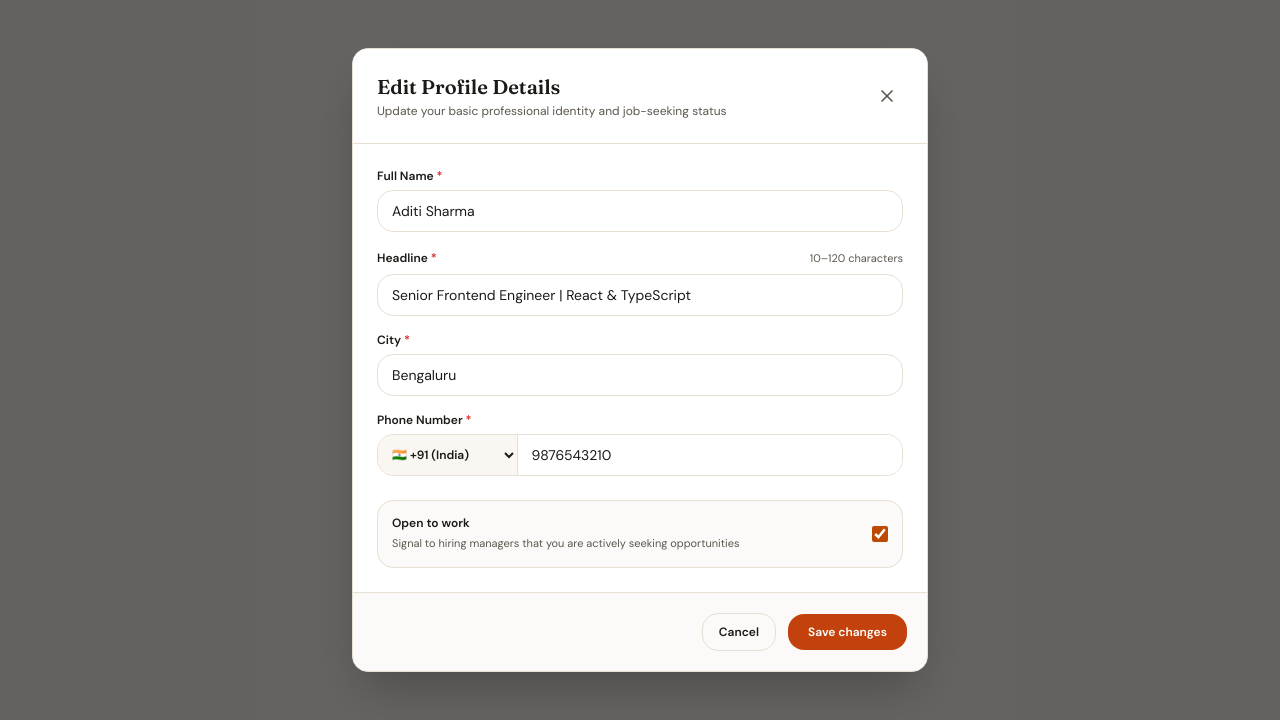
Test: Design B - EditProfileModal (Validation, Dirty Guard, Save) › shows inline validation error when headline is too short (< 10 chars)
The width and height of the screenshot is (1280, 720).
Replace the text in the field labelled "Headline *" with "Dev": [640, 295] box [377,274,903,316]
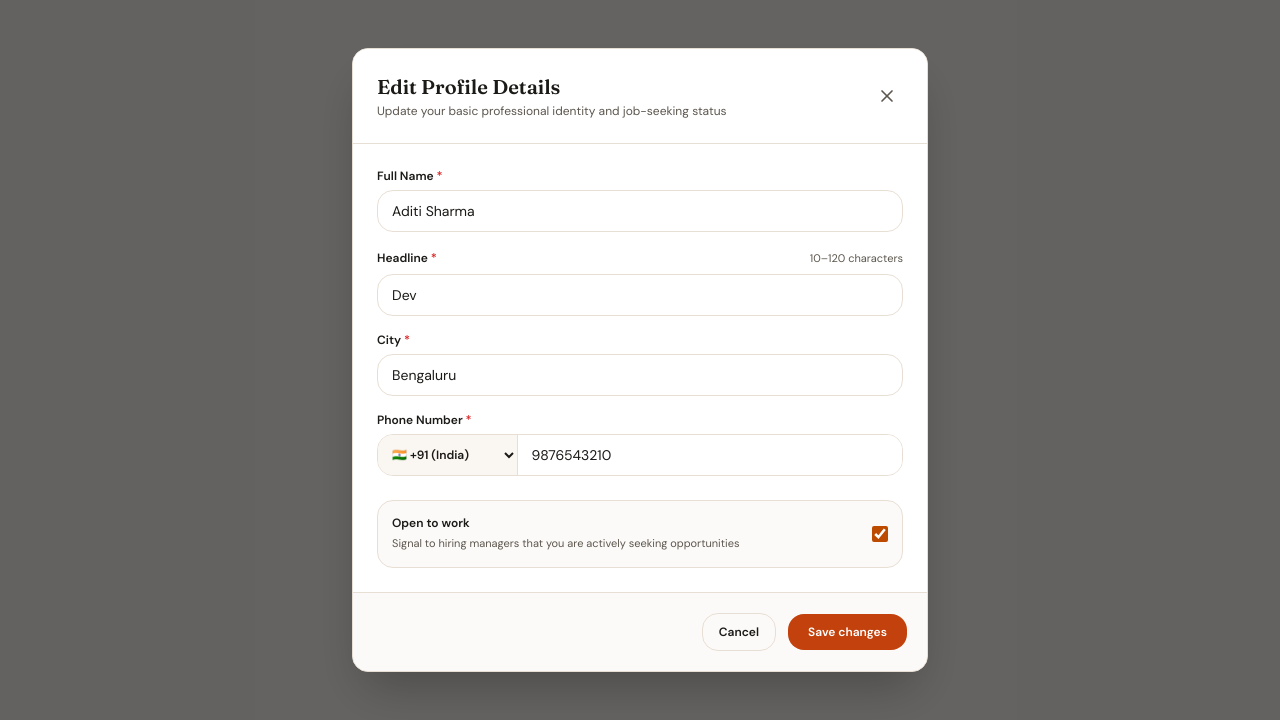
Click the button "Save changes": [848, 632] box [788,614,907,650]
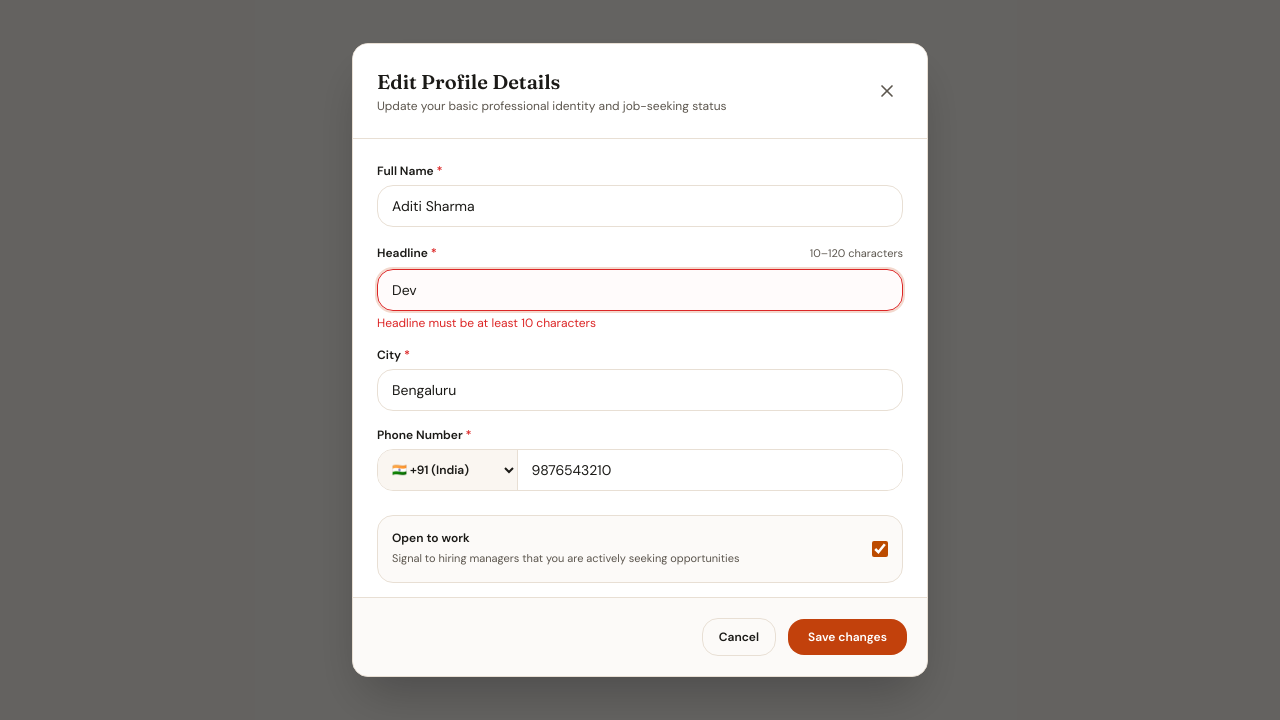
Expected: the message shows "at least 10 characters", [377,315,596,331]
